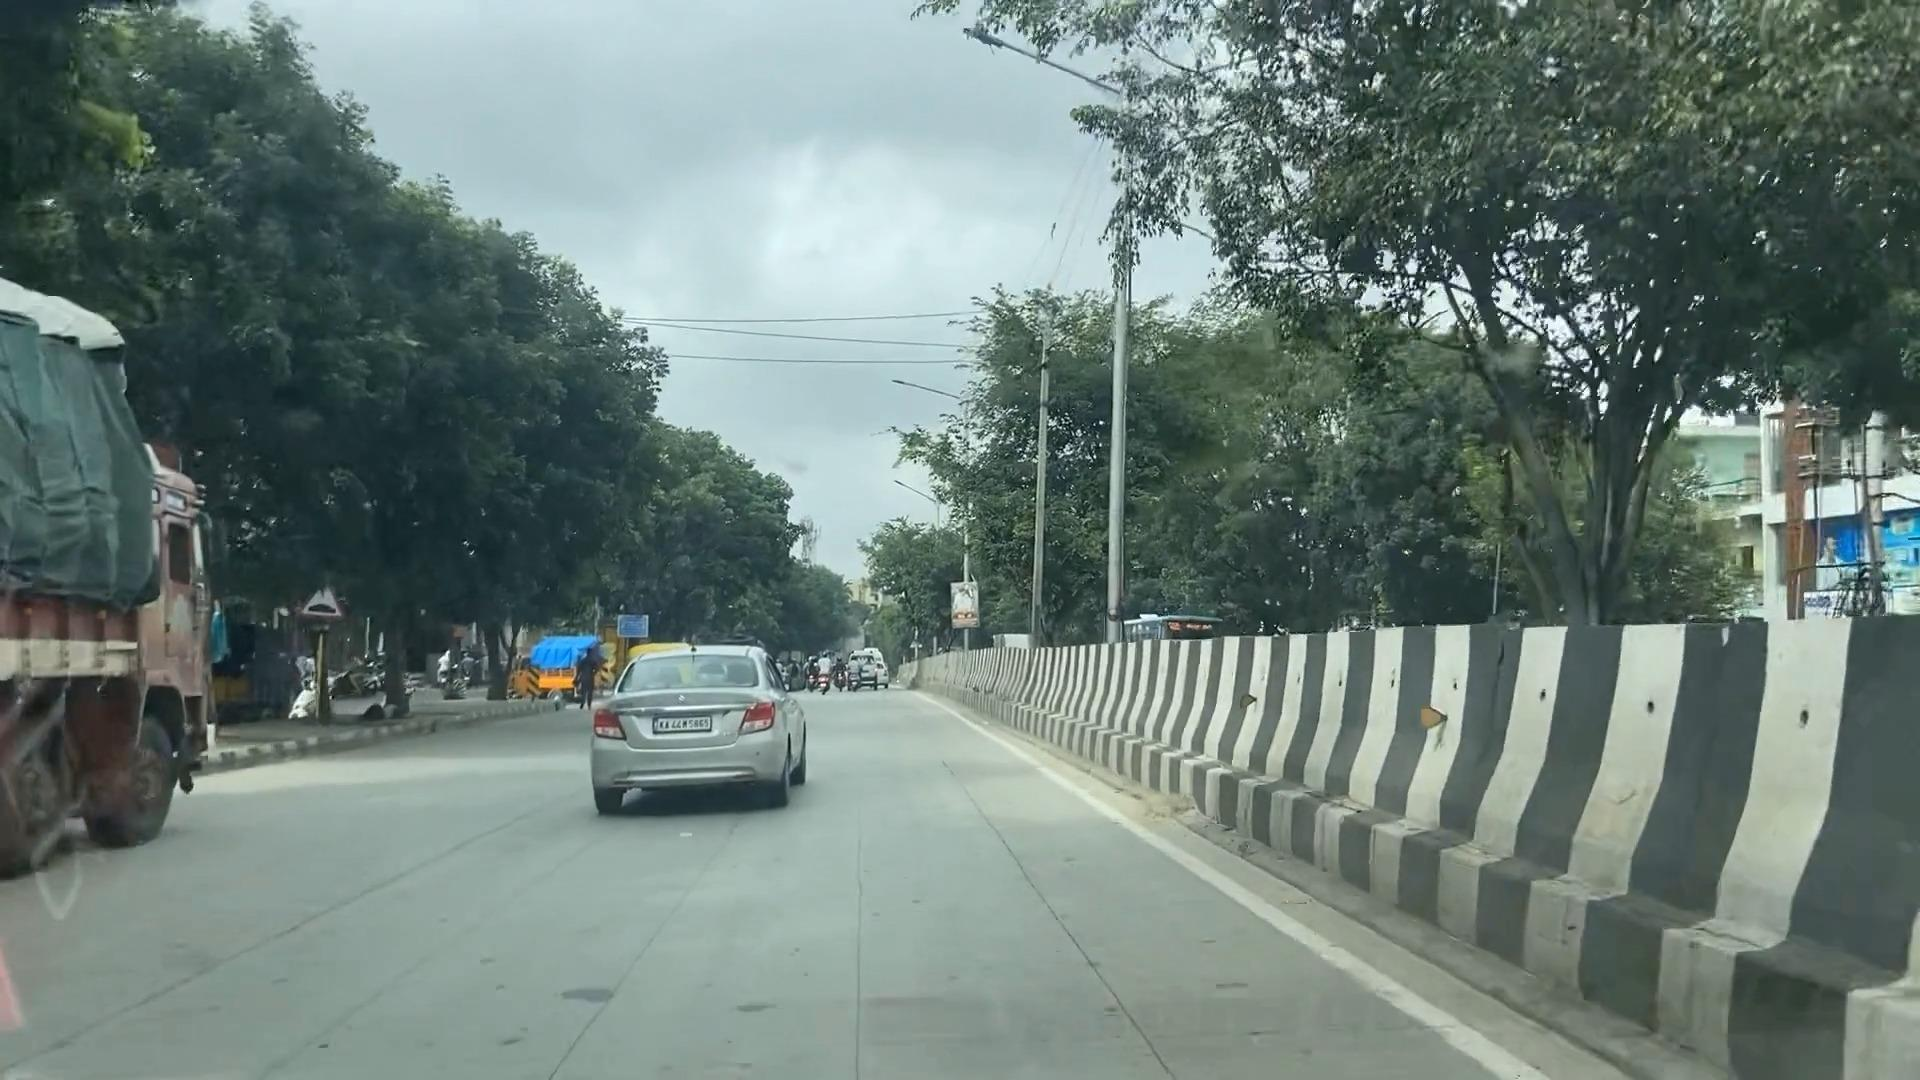LMV: (568, 636, 803, 816)
